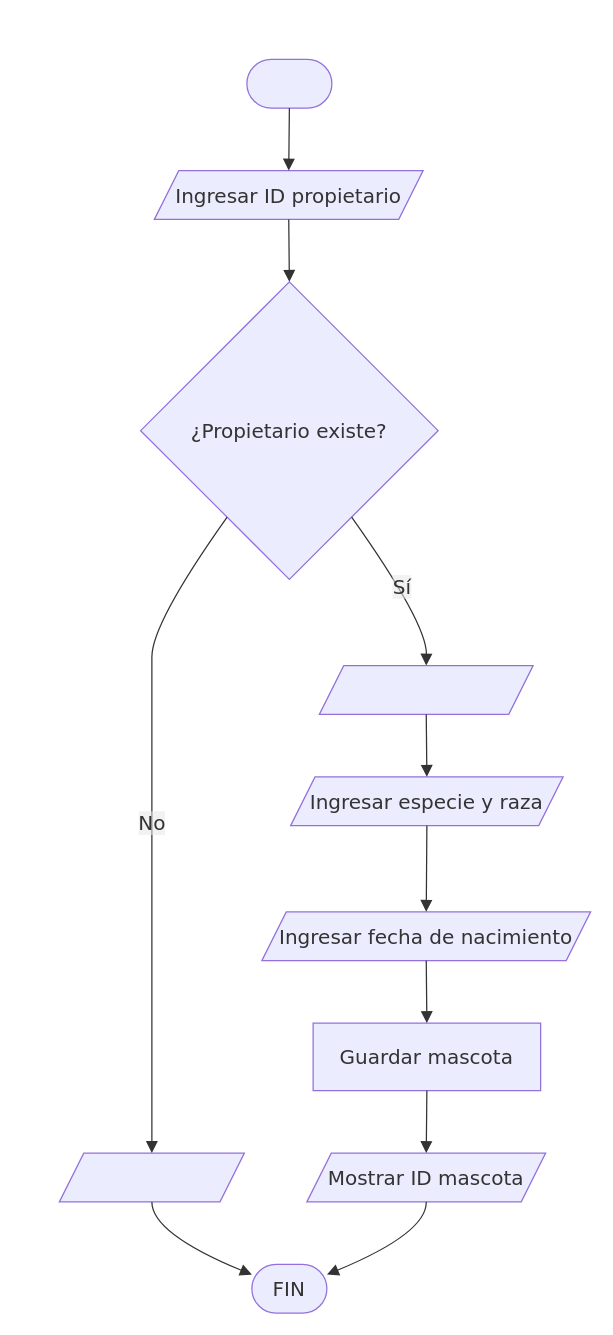
The diagram is 613 pixels wide and 1335 high, and some of its shapes have lost their labels. Here are the shapes that lost their labels. From the top down, the box of each, then its label:
(246, 58, 332, 108): INICIO
(318, 664, 533, 714): Ingresar nombre
(58, 1152, 244, 1202): Mostrar error
